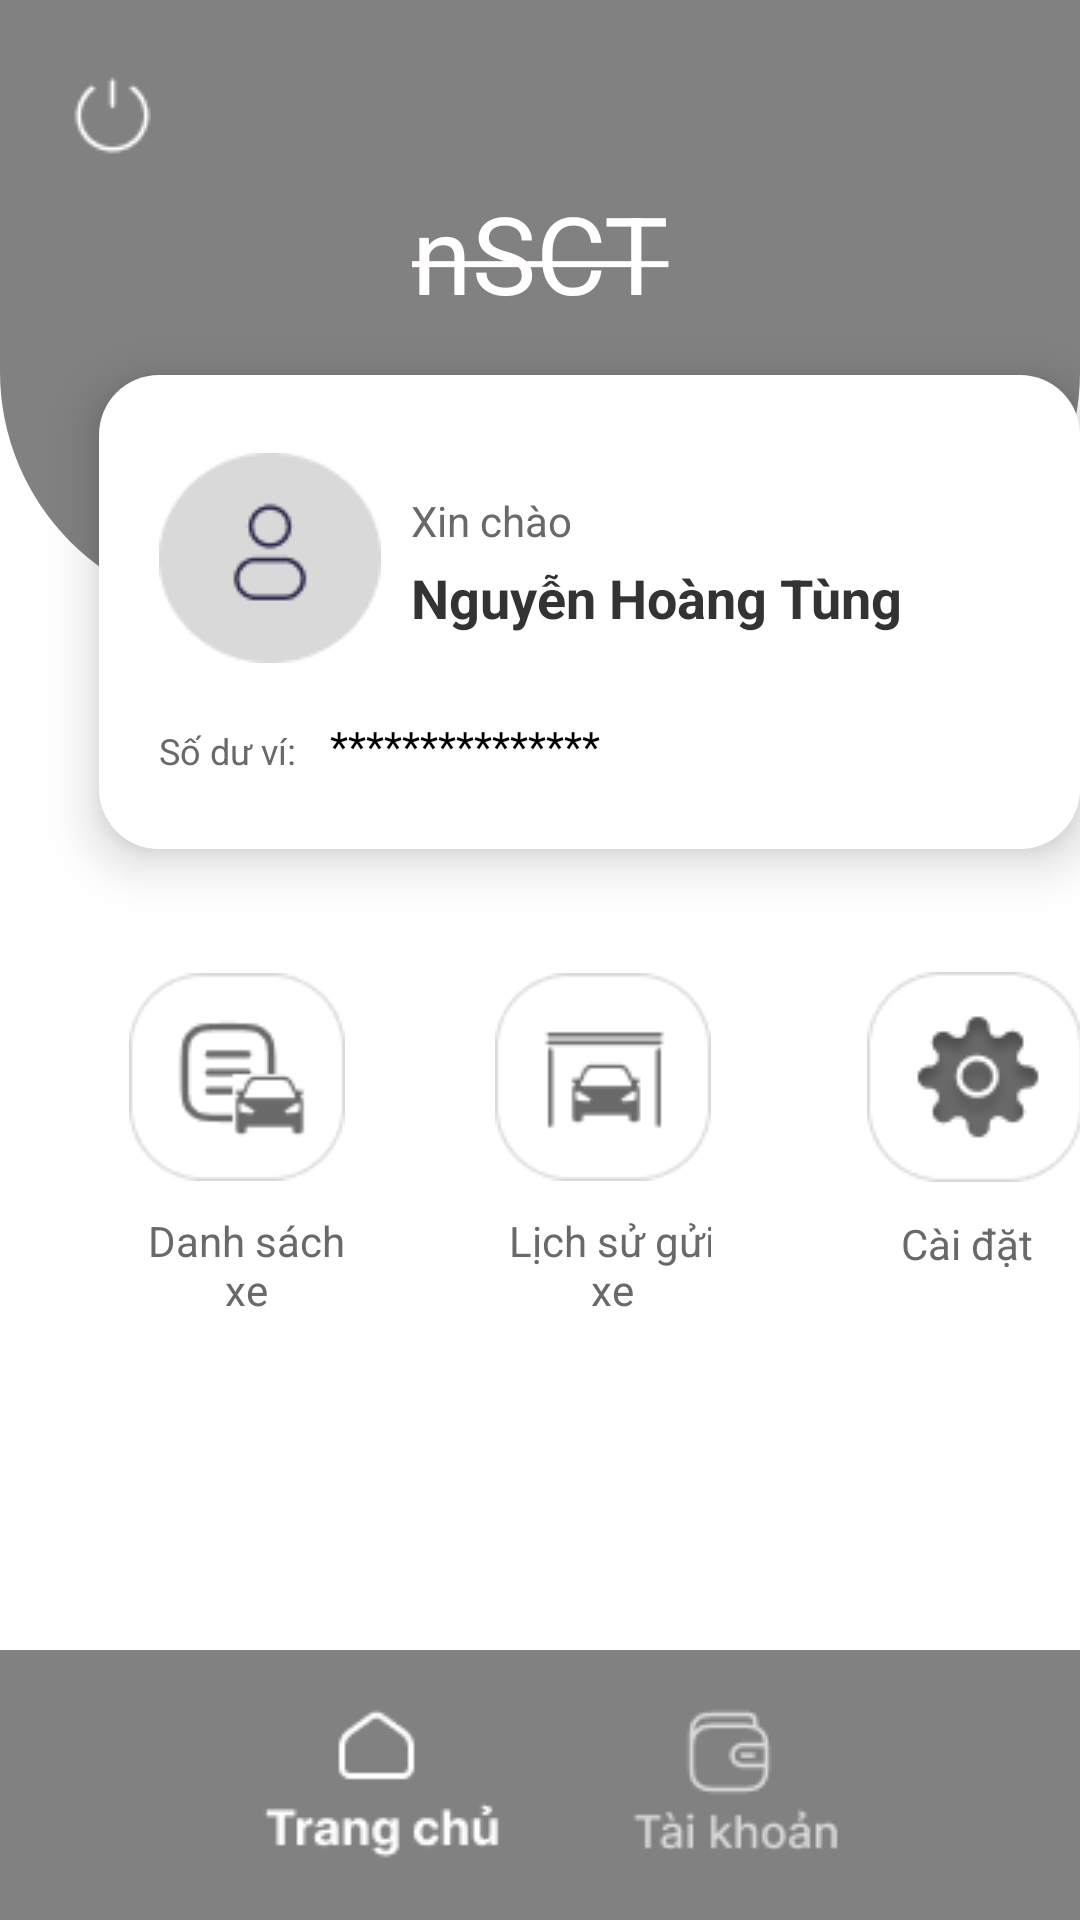

Where to tap for icons on this 1080*1920 app screen, as point (x, y):
cars: point (237, 1077)
log out: point (112, 115)
